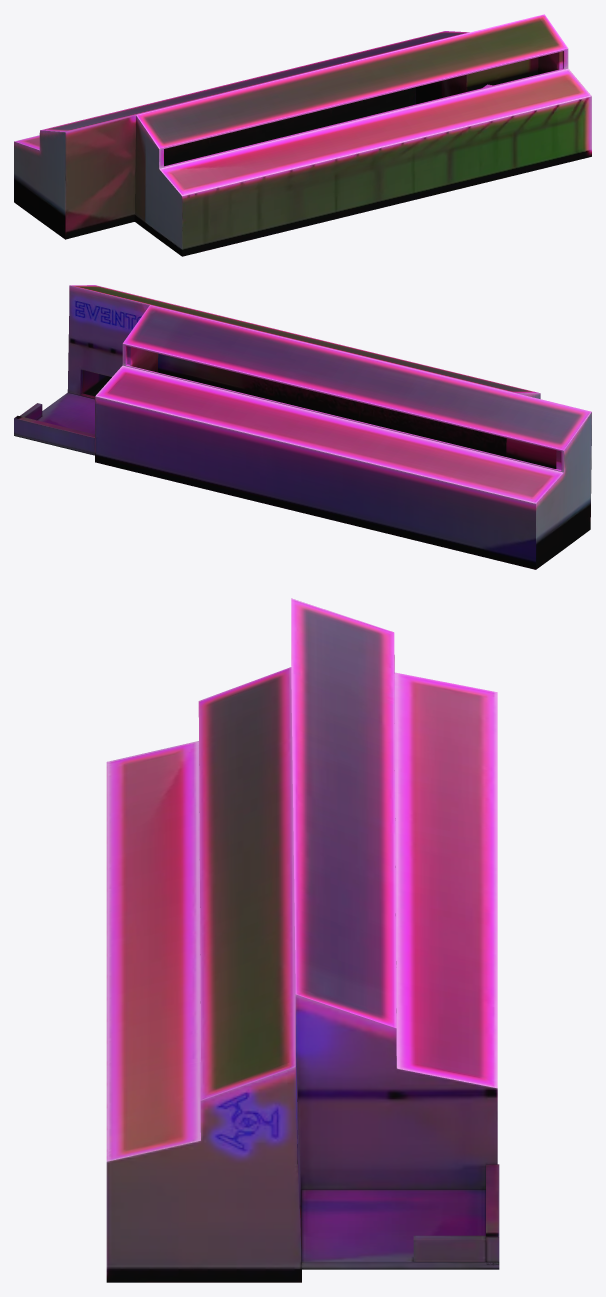
Rendered from Lab1-transformed.glb.
The picture shows the model from 3 angles, top to bottom: view 1: azimuth 30°, elevation 25°; view 2: azimuth 150°, elevation 25°; view 3: azimuth 270°, elevation 25°; orthographic projection. The views are drawn at different scales.
Visible parts, largest first — view 1: Cube.019; view 2: Cube.019; view 3: Cube.019.
Boxes of the visible parts, left/top/right/bottom form: Cube.019: left=14, top=14, right=591, bottom=256; Cube.019: left=14, top=285, right=591, bottom=569; Cube.019: left=106, top=598, right=499, bottom=1282.
Bounding box in the file's own units: 759 × 163 × 269.
1 material, 1 textured.
